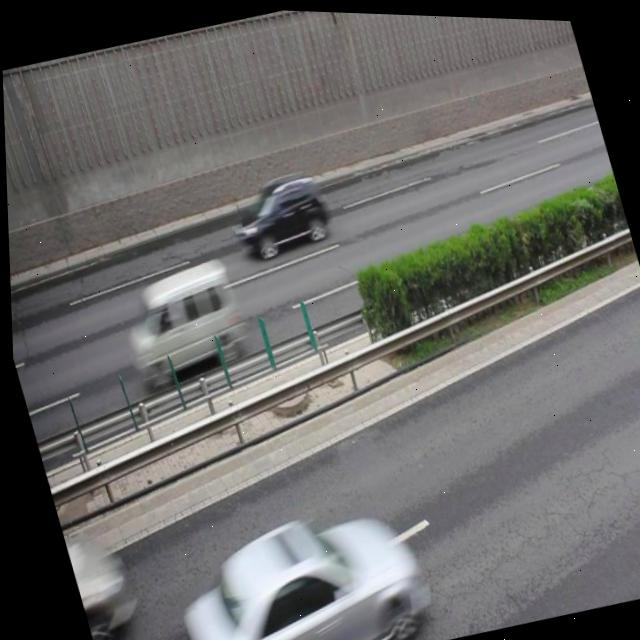car: (158, 485, 433, 640), (221, 159, 335, 263)
truck: (108, 249, 251, 385)
